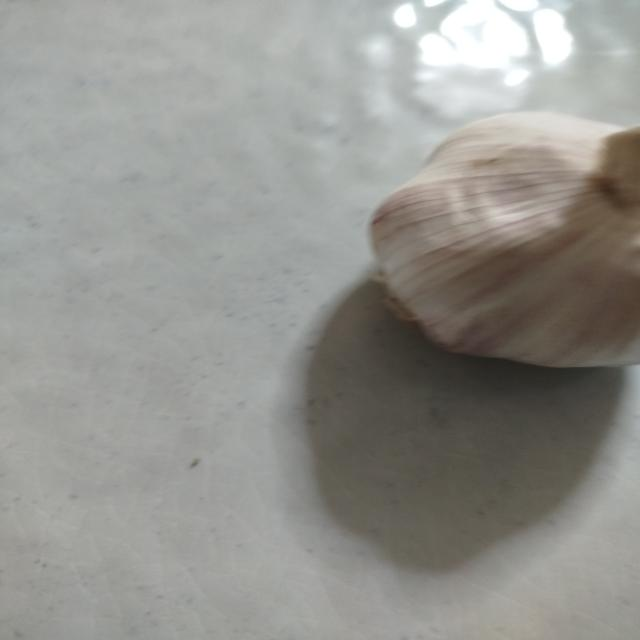garlic: (366, 110, 639, 369)
